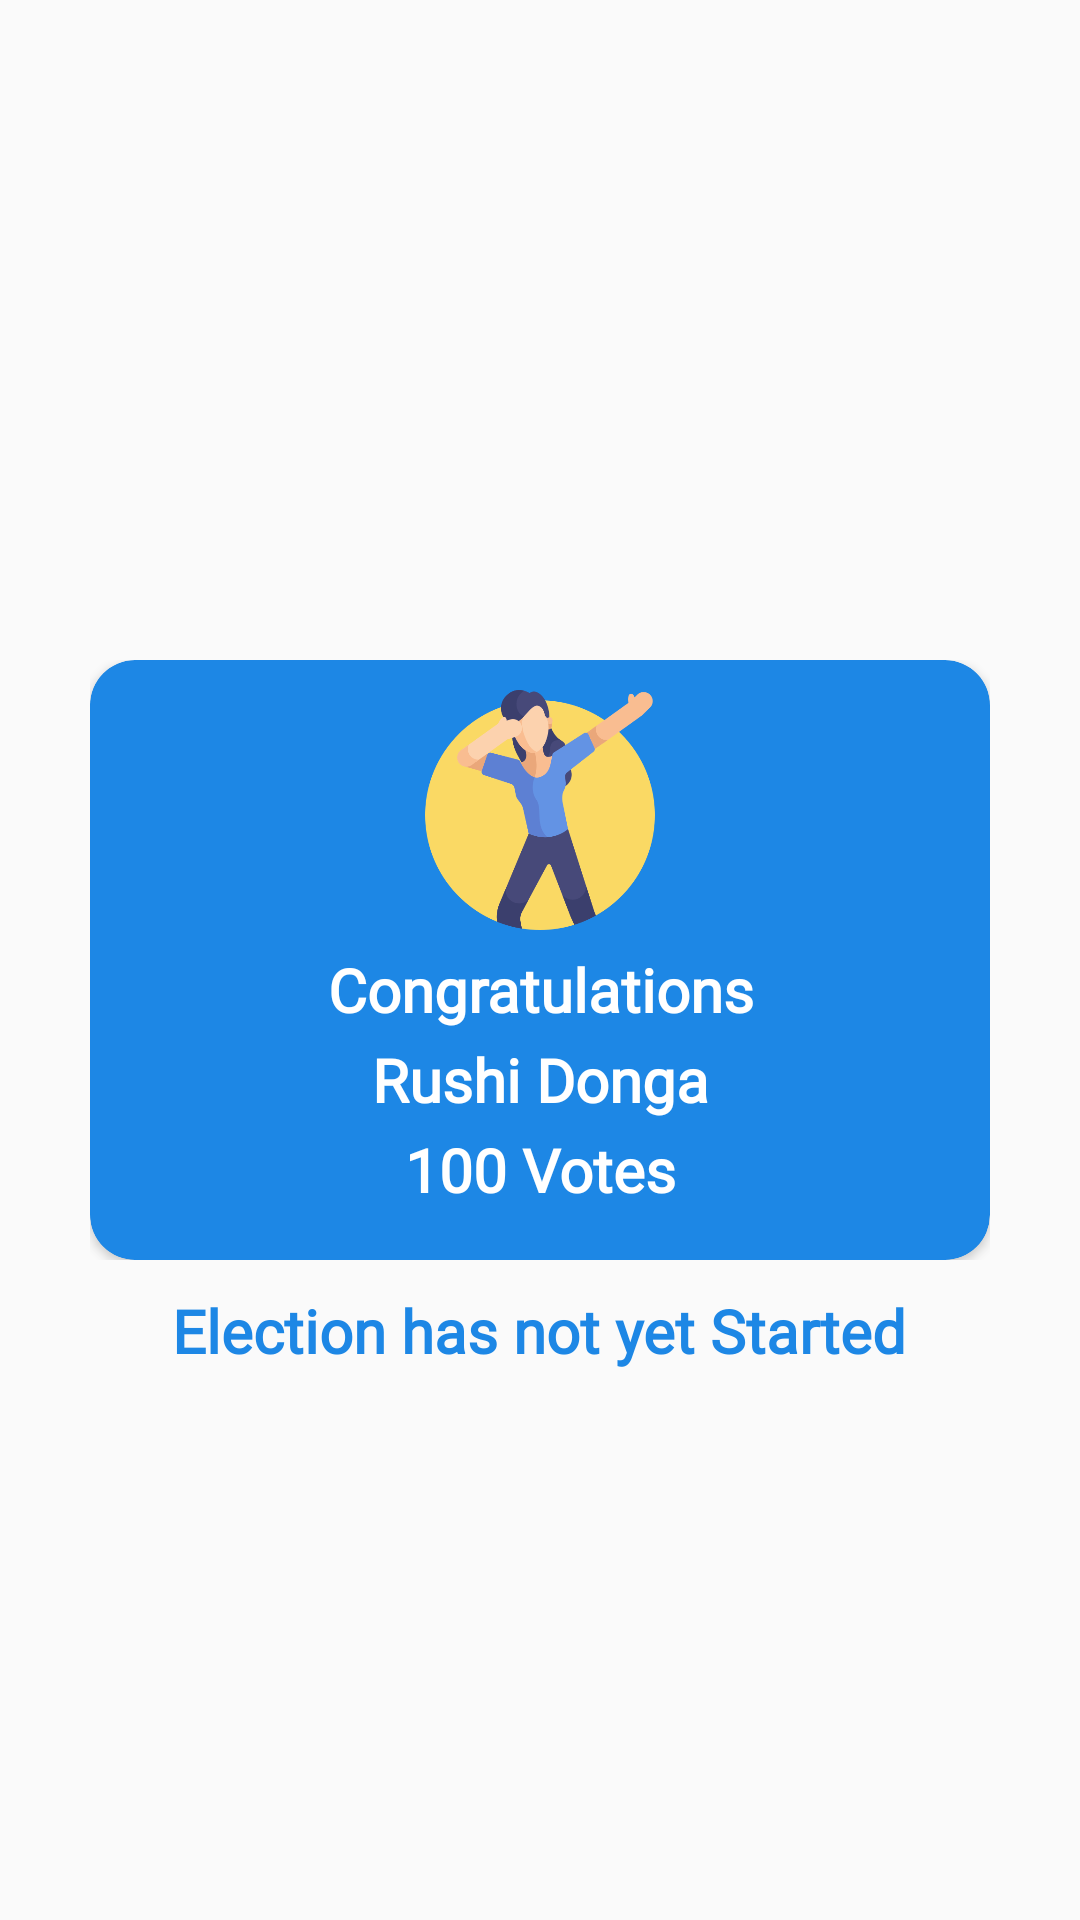

Icon bounding boxes for this 1080px×1920px phone screenshot, format (x1, y1, x2, y2):
dab: (425, 690, 655, 930)
